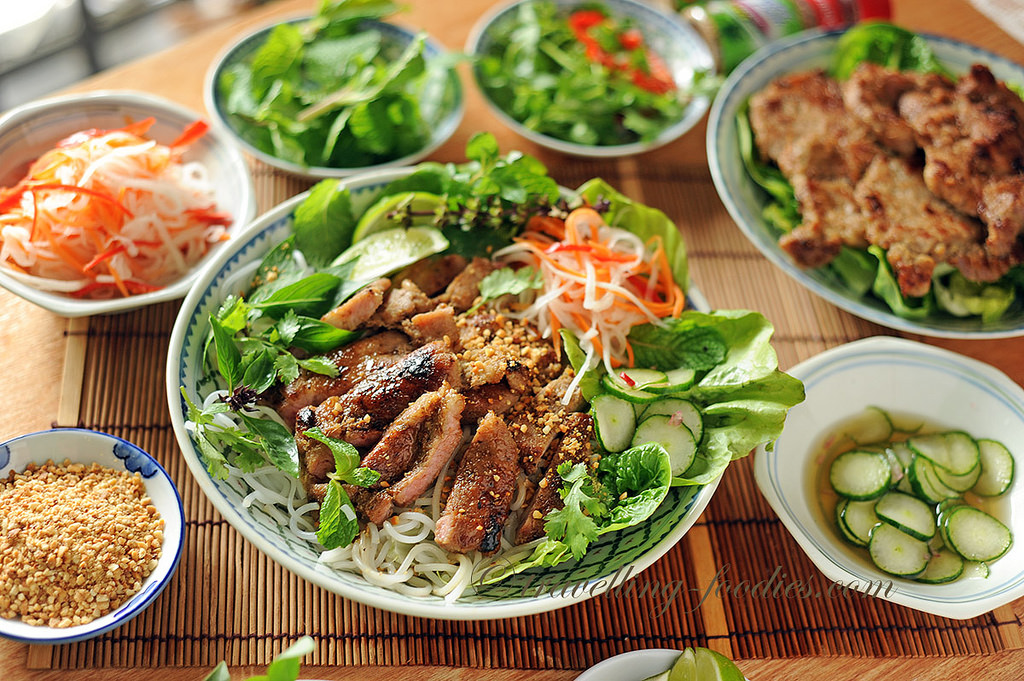chopped lettuce: (278, 211, 319, 511), (624, 355, 711, 478)
